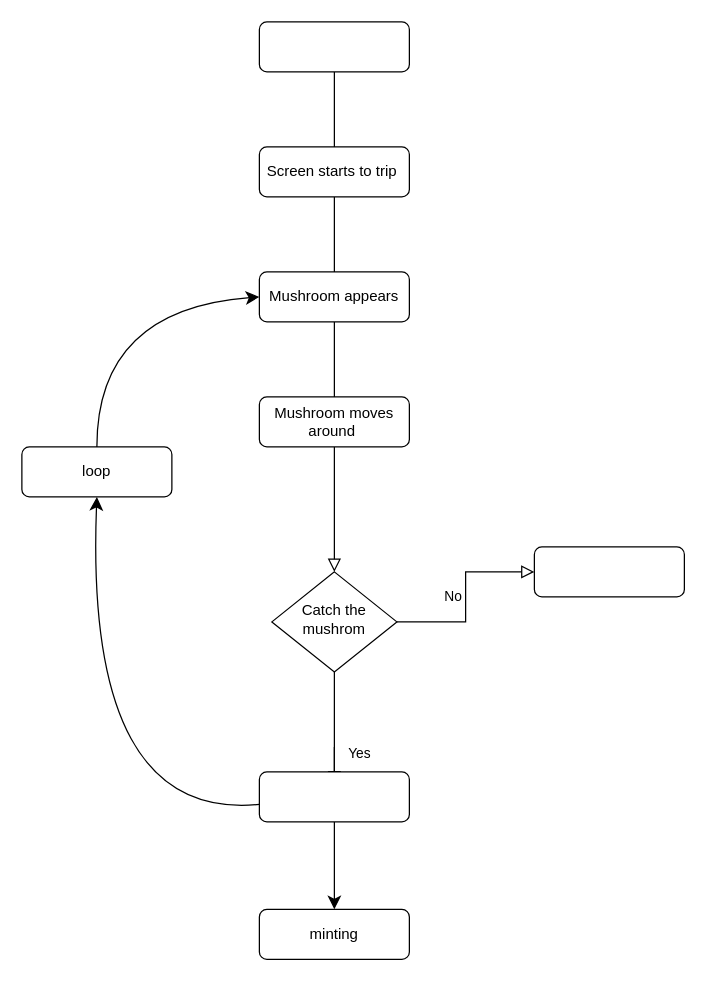
Some shapes in this 706 by 981 pixel diagram are drawn without their labels. The shapes that lost their labels are listed below. From the top down, each one's box as (x1, y1, x2, y2) in pixels, then its label:
(258, 21, 409, 72): Game starts Mushy trip
(533, 546, 684, 597): dissapear
(258, 771, 409, 822): Appear in your collection
